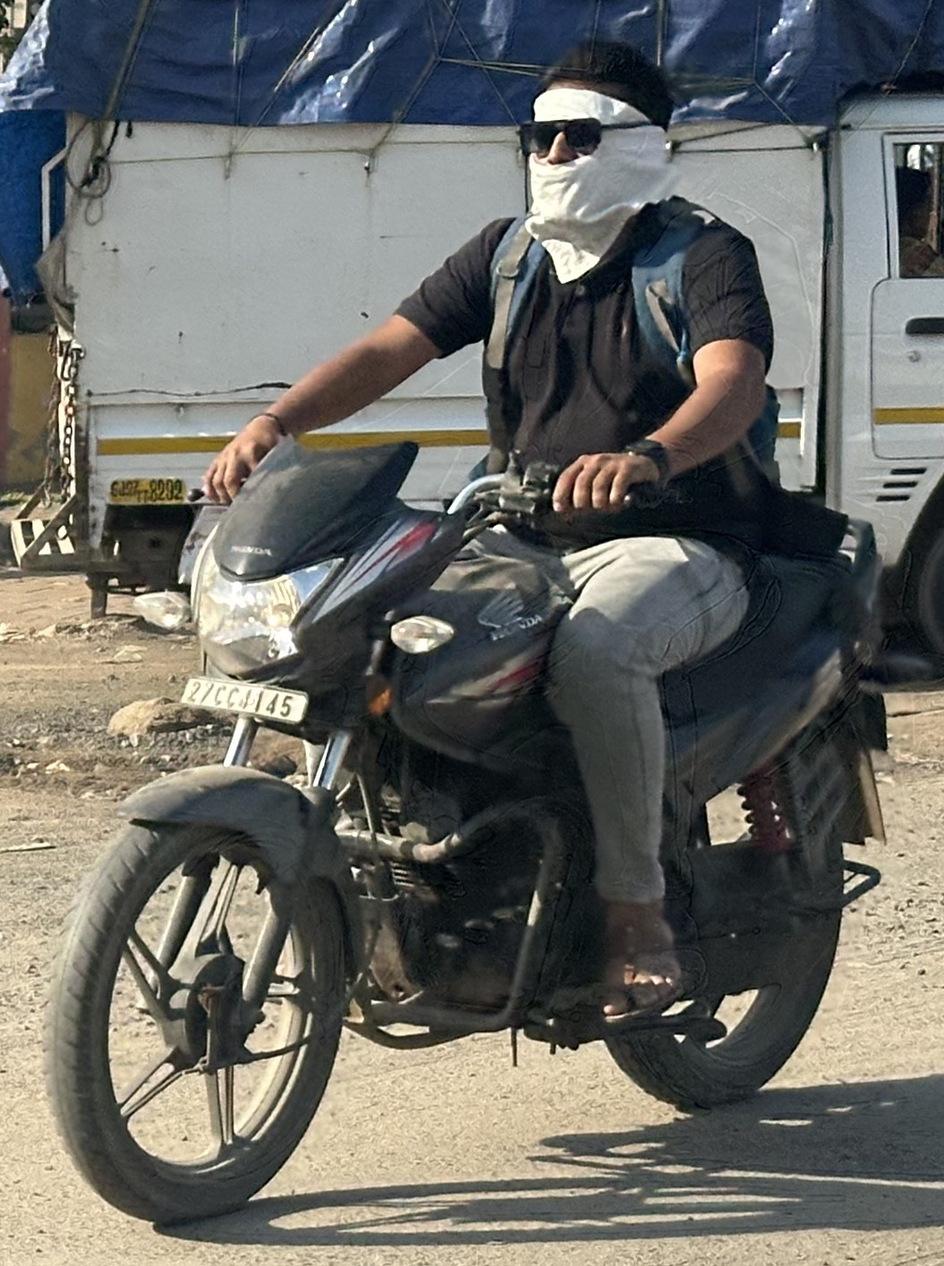BikeWithRider: (30, 29, 905, 1234)
NoHelmet: (498, 33, 695, 257)
